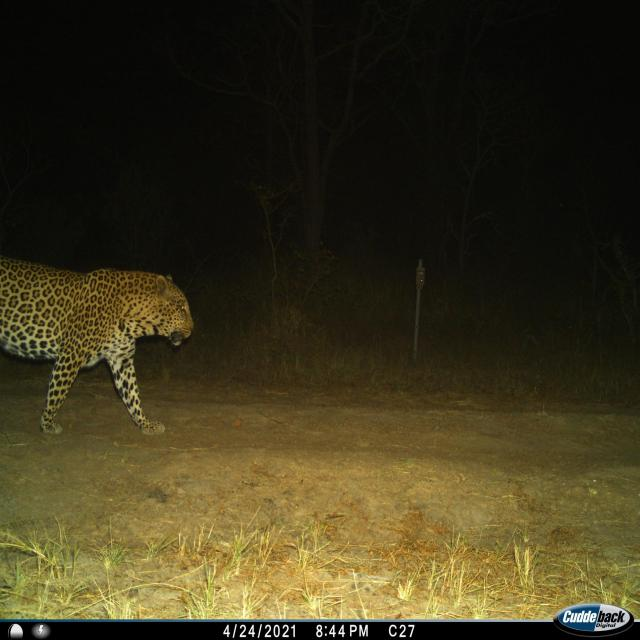Leopard: (3, 234, 204, 449)
